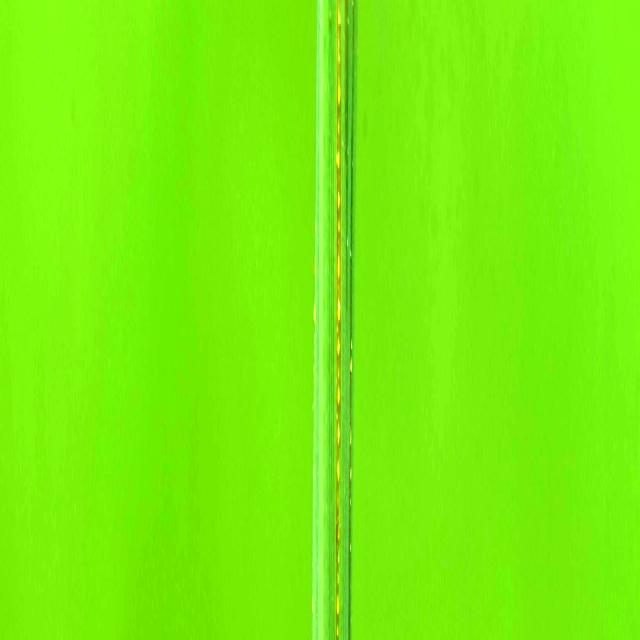BLS: (348, 1, 354, 640), (336, 1, 341, 640), (345, 1, 349, 318)
